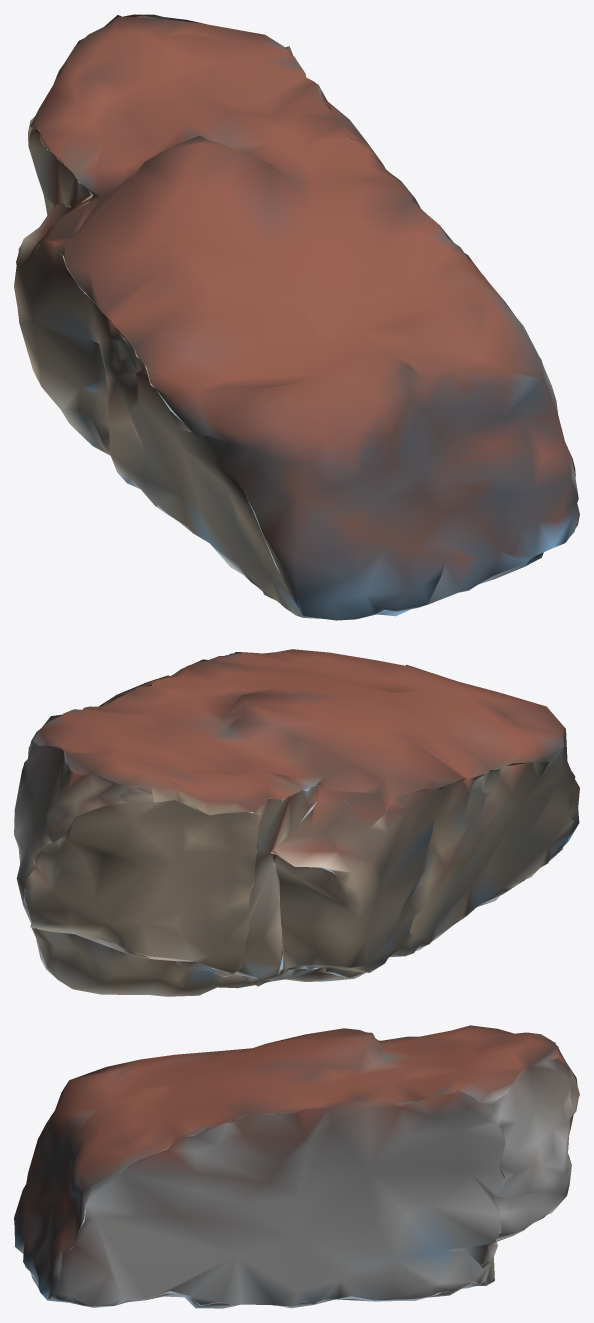
Rendered from rock_07.fbx.
3 views of the same model, one above another, from view 1: azimuth 30°, elevation 25°; view 2: azimuth 150°, elevation 25°; view 3: azimuth 270°, elevation 25° (orthographic). The views are drawn at different scales.
Parts seen in each view (by area): view 1: rock_07_LOD0; view 2: rock_07_LOD0; view 3: rock_07_LOD0.
Part boxes in pixels (x1,y1,x2,y2): rock_07_LOD0: [14, 14, 579, 620]; rock_07_LOD0: [14, 649, 579, 996]; rock_07_LOD0: [14, 1025, 579, 1308].
Size of what is drawn, in the model's own units: 0.1681 by 0.1429 by 0.3205.
